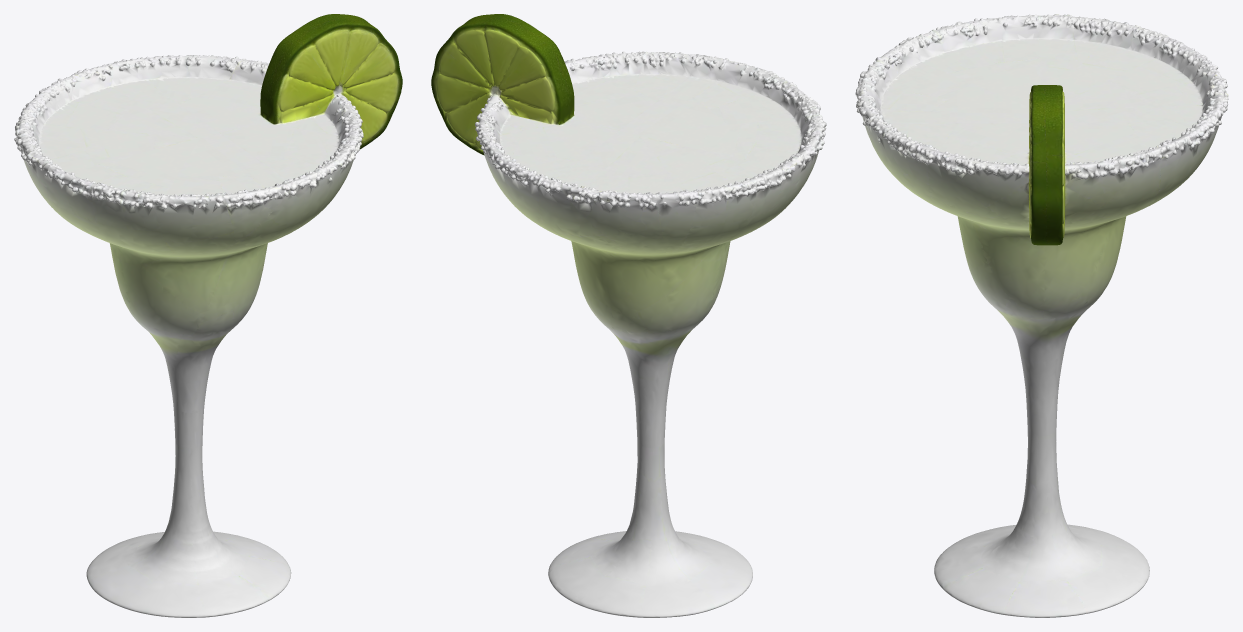
The model's file is margarita.glb.
The picture shows the model from 3 angles, left to right: view 1: azimuth 30°, elevation 25°; view 2: azimuth 150°, elevation 25°; view 3: azimuth 270°, elevation 25°; orthographic projection. The views are drawn at different scales.
Visible parts, largest first — view 1: mesh_node; view 2: mesh_node; view 3: mesh_node.
Part boxes in pixels (x1=…): mesh_node: x1=14, y1=14, x2=402, y2=617; mesh_node: x1=431, y1=14, x2=826, y2=617; mesh_node: x1=855, y1=14, x2=1228, y2=617.
Bounding box in the file's own units: 0.0868 × 0.12 × 0.0726.
Materials: 1 (1 with a texture image).
